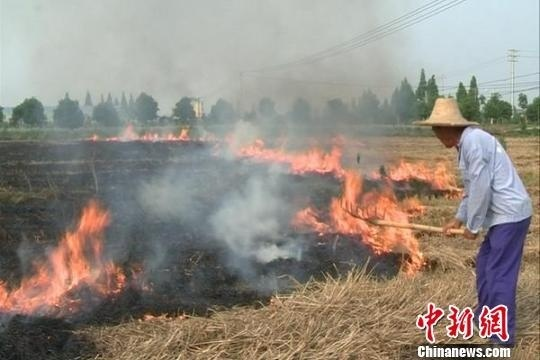fire: (290, 154, 431, 274), (1, 200, 136, 317), (381, 155, 463, 194), (86, 122, 197, 143)
